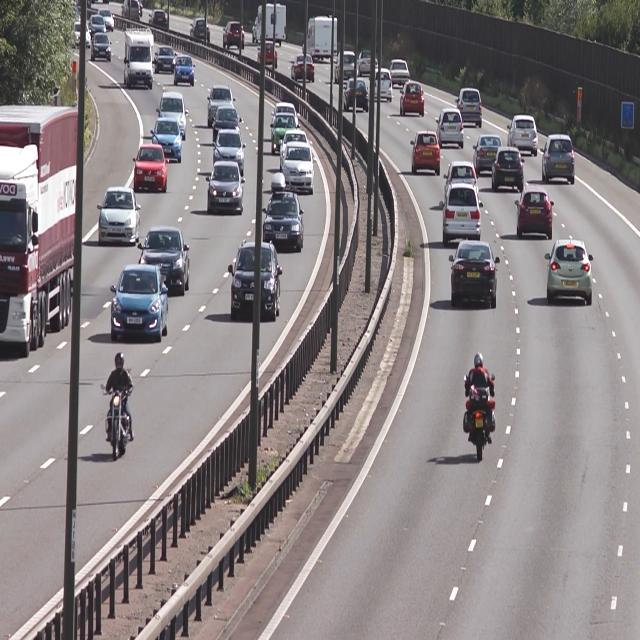Vehicle: (0, 104, 84, 361), (108, 266, 170, 346), (227, 244, 282, 325), (541, 234, 596, 307), (447, 240, 501, 313), (258, 172, 304, 255), (136, 228, 189, 298), (510, 181, 557, 248), (96, 187, 140, 247), (441, 184, 482, 245), (203, 162, 247, 216), (538, 131, 575, 187), (121, 28, 152, 91), (132, 141, 168, 194), (281, 143, 317, 195), (212, 128, 246, 180), (490, 144, 524, 195), (150, 118, 184, 165), (154, 91, 186, 140), (408, 131, 440, 177), (209, 105, 244, 147), (206, 84, 237, 131), (506, 112, 536, 158), (433, 108, 464, 152), (453, 86, 482, 131), (472, 131, 501, 173), (397, 81, 425, 119), (341, 78, 368, 115), (172, 50, 196, 89), (289, 53, 314, 86), (88, 33, 113, 64), (368, 71, 392, 103), (388, 58, 410, 91)
